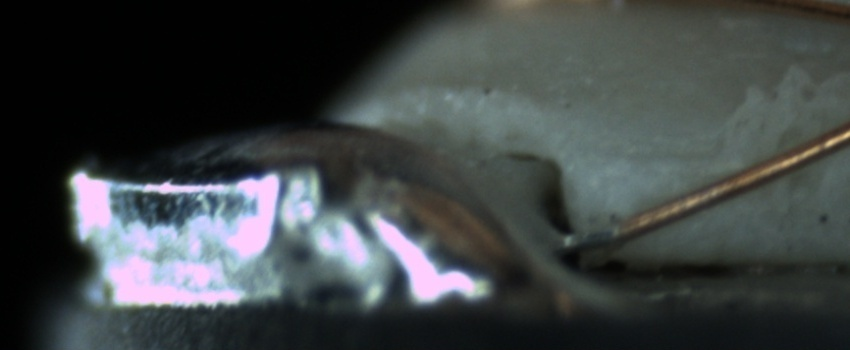DL: (599, 122, 731, 188)
TS: (555, 223, 618, 253)
